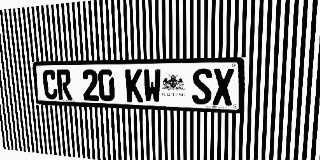0: (98, 69, 115, 101)
2: (82, 69, 99, 101)
C: (42, 70, 58, 99)
K: (125, 69, 143, 102)
R: (56, 70, 72, 100)
S: (192, 68, 212, 105)
W: (143, 69, 161, 103)
X: (213, 68, 234, 105)
